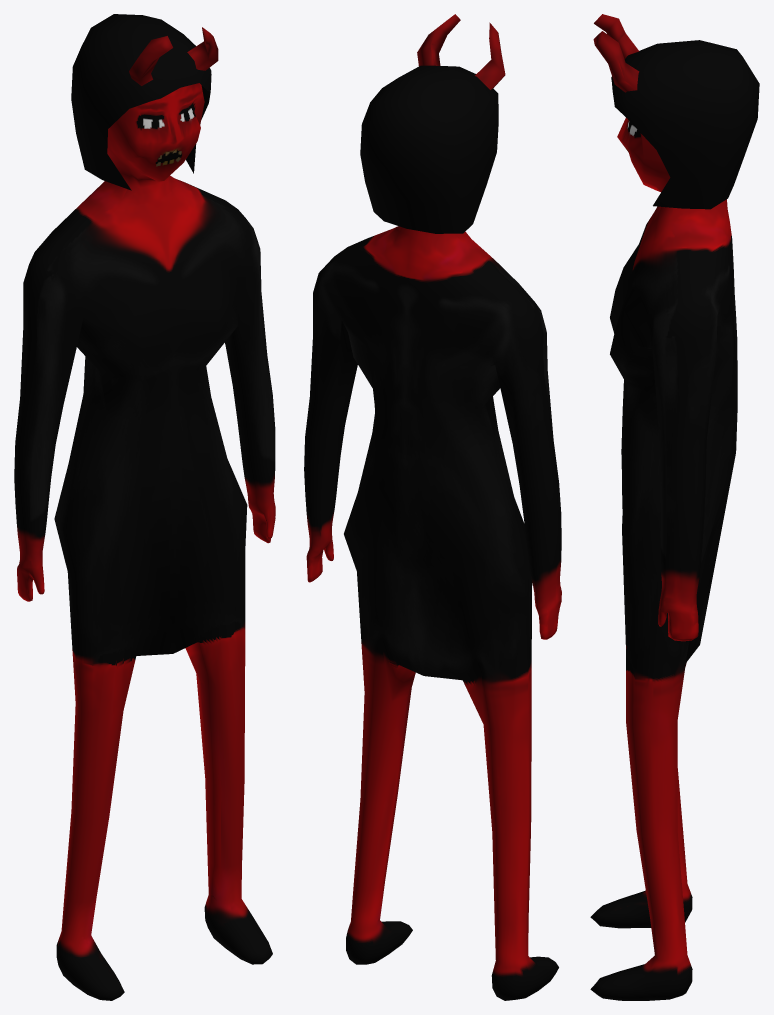
The model's file is Demon_Woman_1.fbx.
The picture shows the model from 3 angles, left to right: view 1: azimuth 30°, elevation 25°; view 2: azimuth 150°, elevation 25°; view 3: azimuth 270°, elevation 25°; orthographic projection.
Visible parts, largest first — view 1: DemonWoman; view 2: DemonWoman; view 3: DemonWoman.
Boxes of the visible parts, left/top/right/bottom form: DemonWoman: left=14, top=14, right=275, bottom=1000; DemonWoman: left=304, top=14, right=561, bottom=1000; DemonWoman: left=590, top=14, right=759, bottom=1000.
Size of the model in its own units: 107 by 386 by 63.03.
2 materials, 1 textured.
